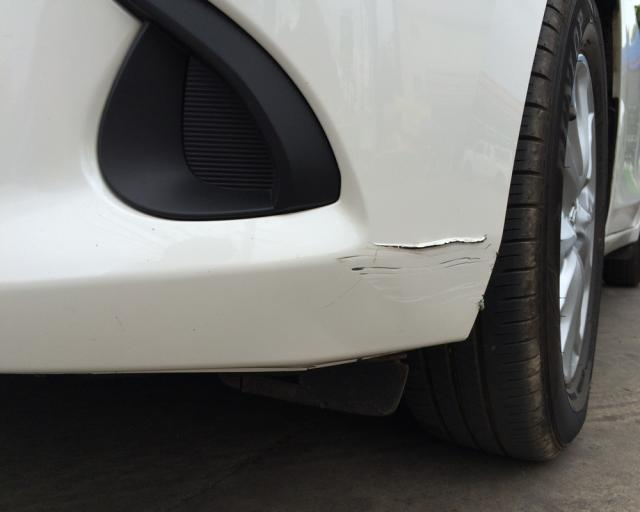scratch: (334, 233, 497, 309)
